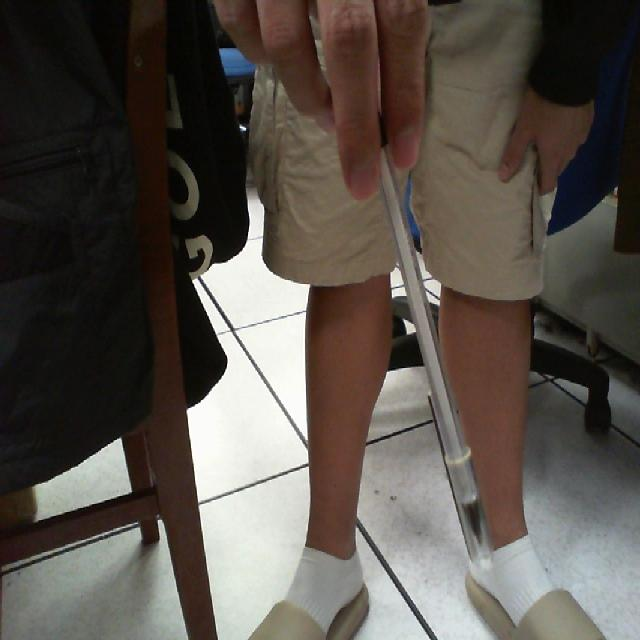Pen: (374, 101, 506, 590)
